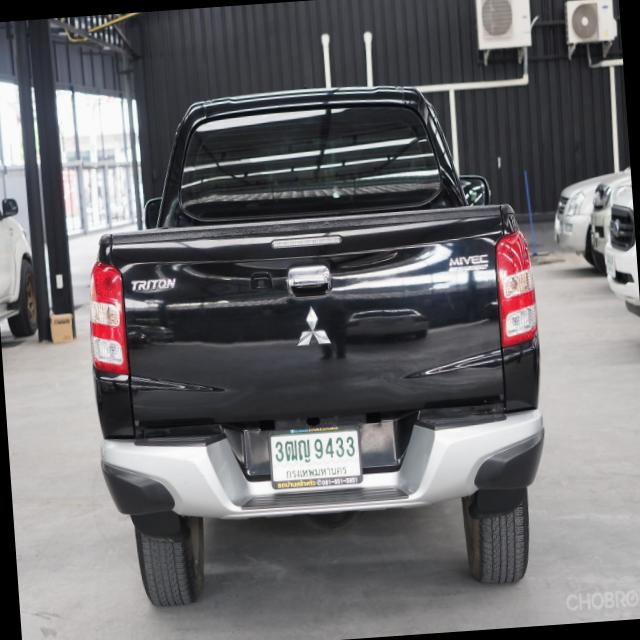license_plate: (266, 421, 366, 492), (603, 251, 620, 279)
